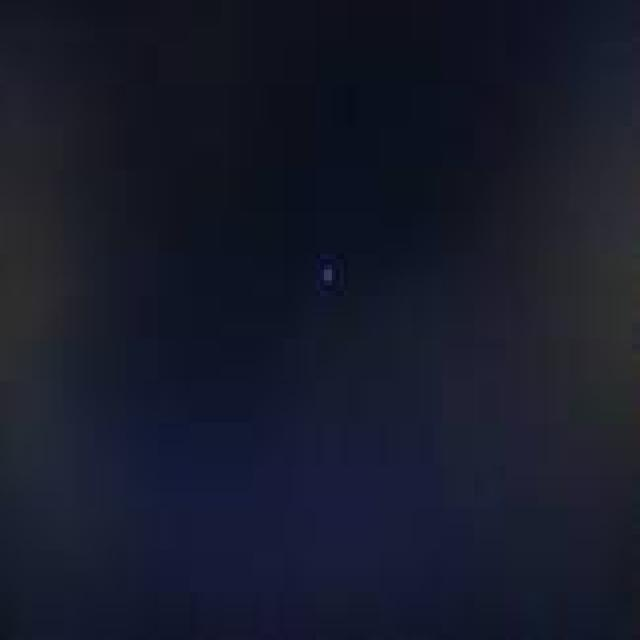dead_pixel: (307, 232, 353, 310)
